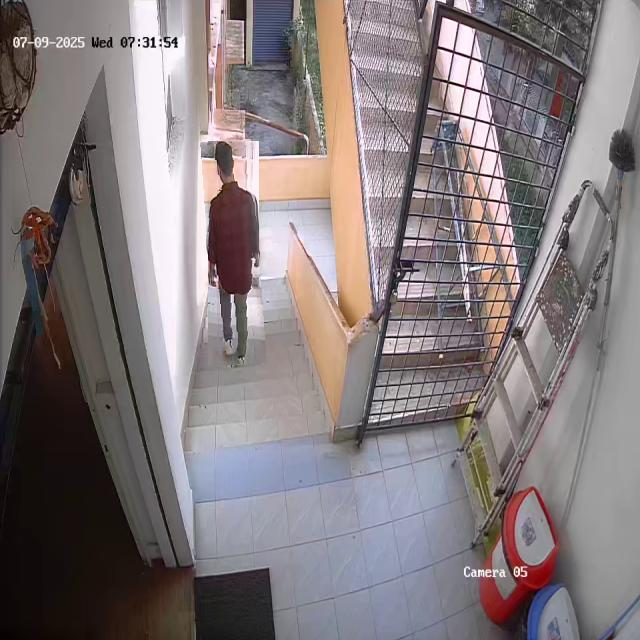person: (204, 140, 263, 366)
